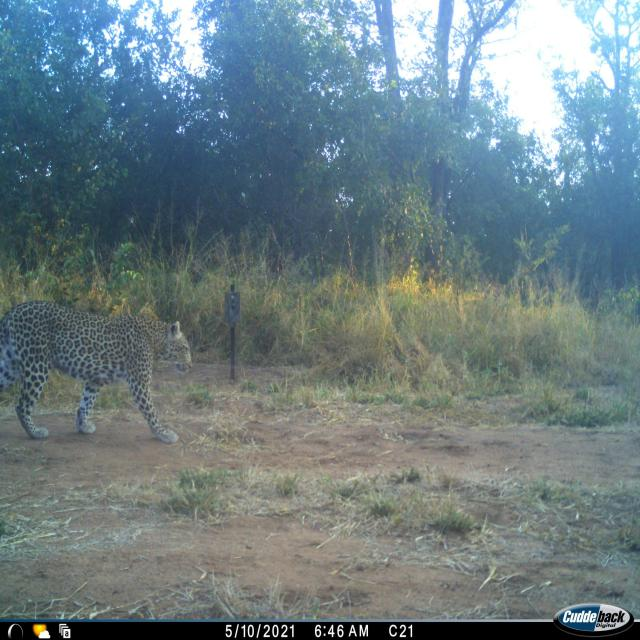Leopard: (0, 284, 184, 454)
